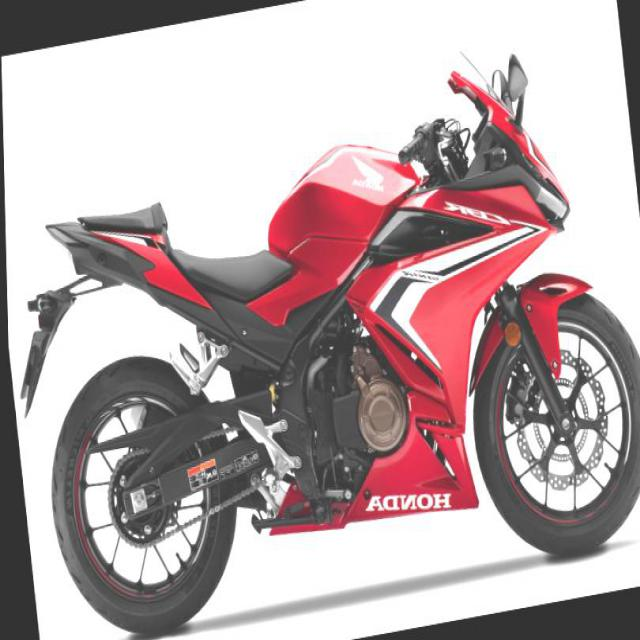CBR500R: (7, 20, 639, 639)
